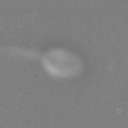normal: (1, 39, 44, 67)
